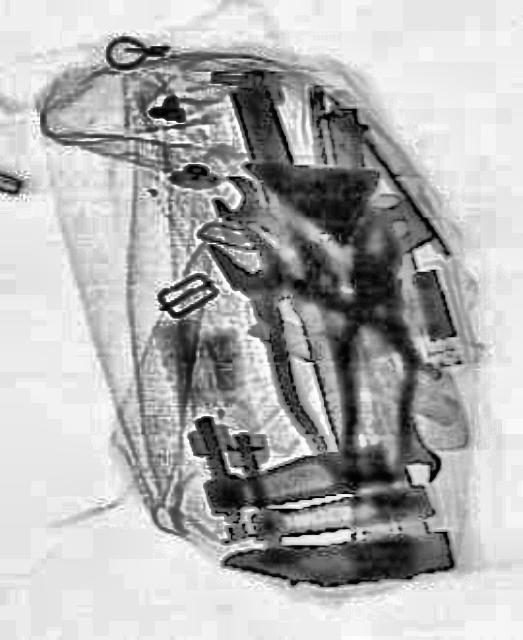Pliers: (171, 179, 421, 461)
Wrench: (205, 162, 347, 286)
